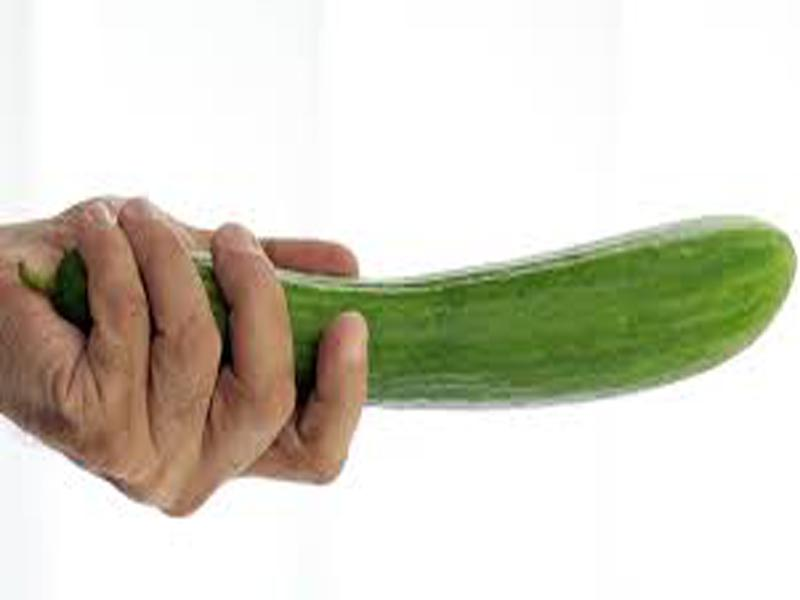Cucumber: (21, 212, 800, 406)
